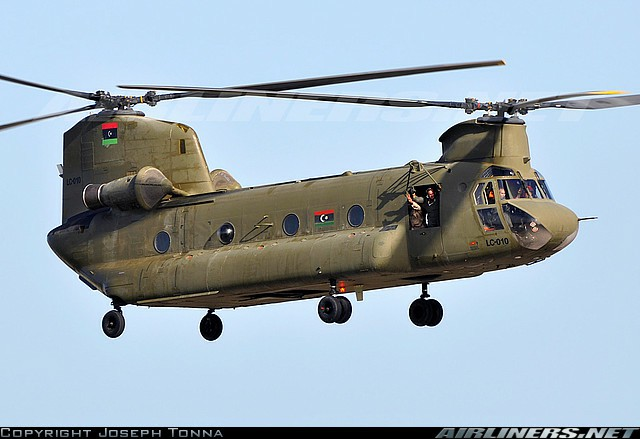chinook: (13, 58, 634, 332)
